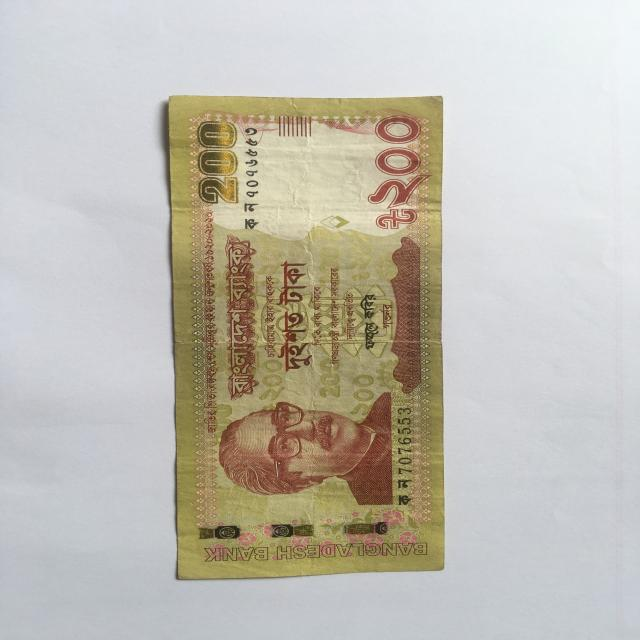Taka: (152, 89, 448, 565)
